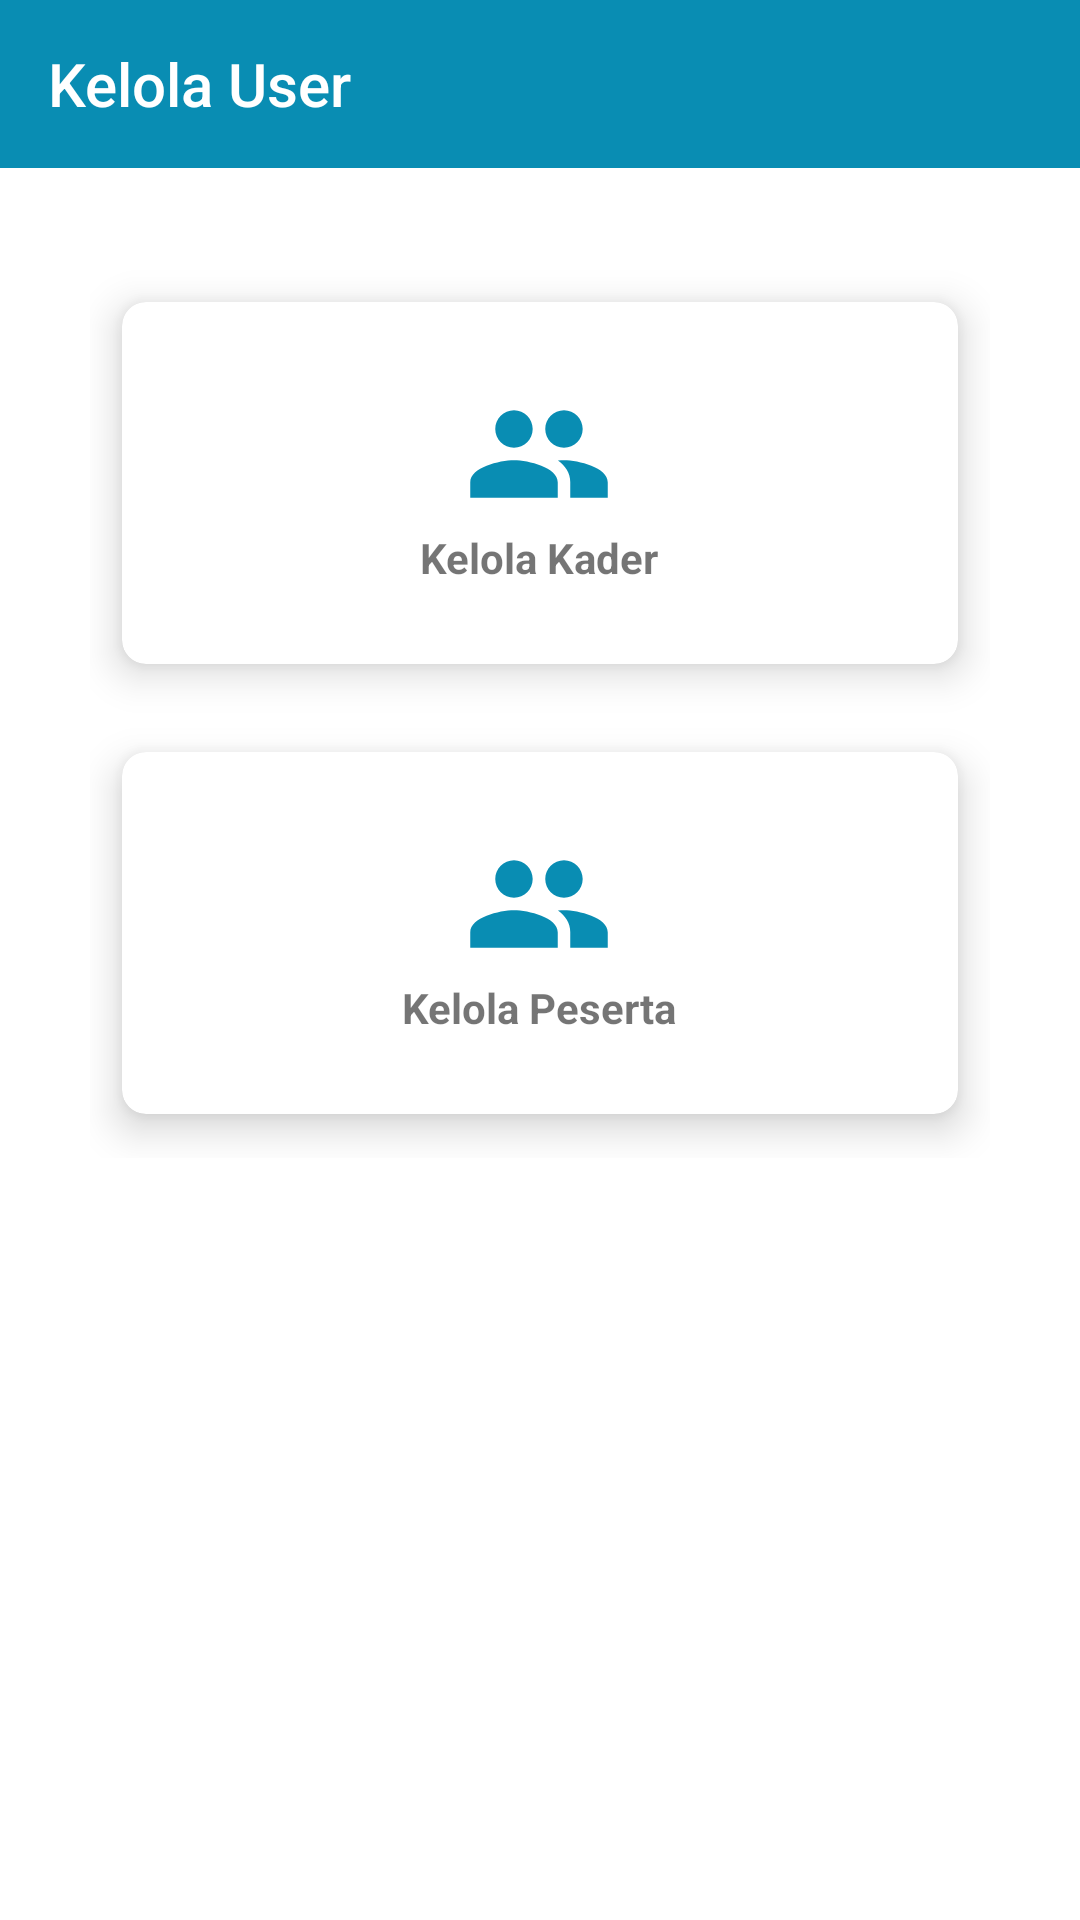

Named icons in this screenshot (1080*1920) and their centers, [x,y]:
user: [539,454], [539,904]
